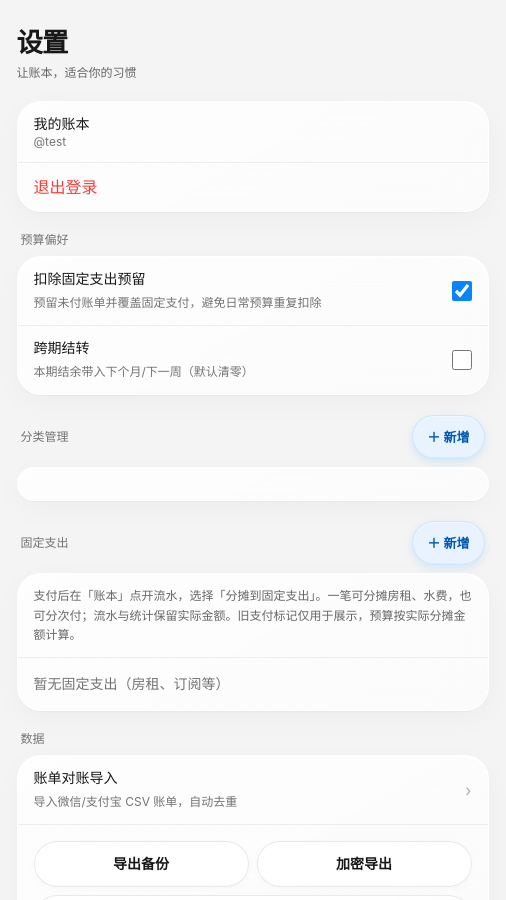
Scenario: 局域网 HTTP 不支持 subtle 时，加密导出给出中文连接说明
Click the button "加密导出": x=364, y=864 [256,841,472,887]
(page scrolled)
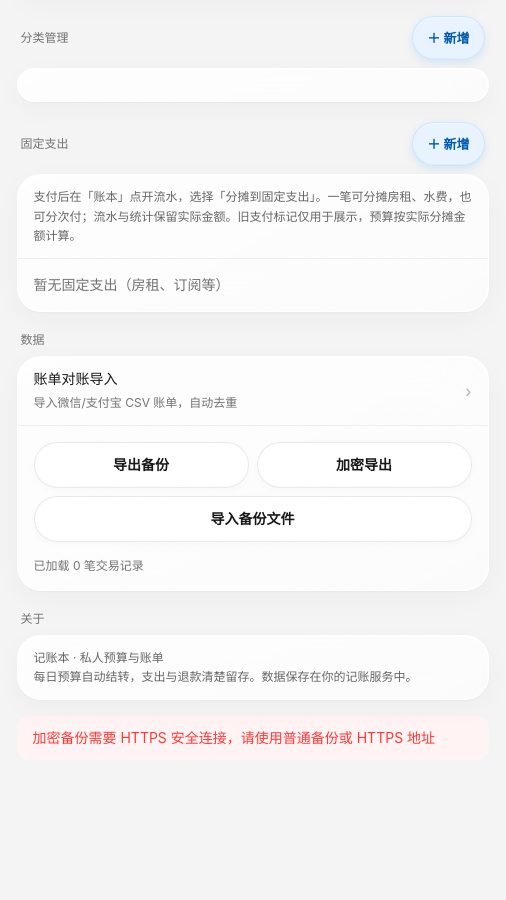
expect the text "加密备份需要 HTTPS 安全连接，请使用普通备份或 HTTPS 地址" is shown: met, box [16,716,488,760]
